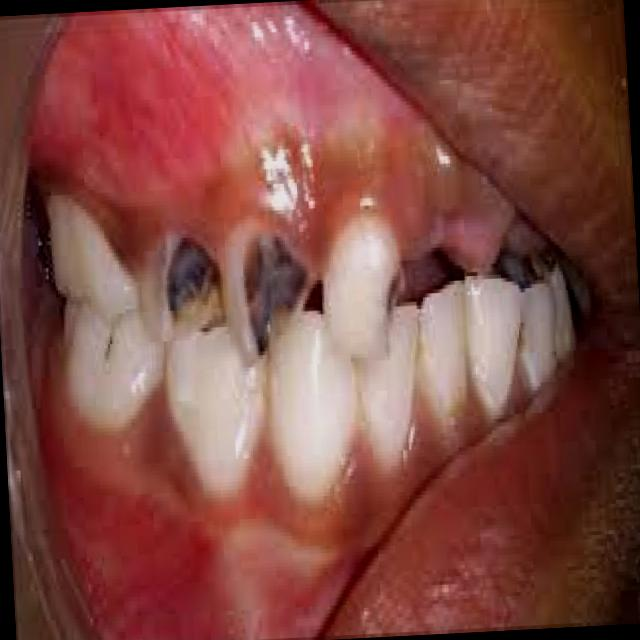caries: (233, 228, 310, 368), (154, 218, 229, 347)
